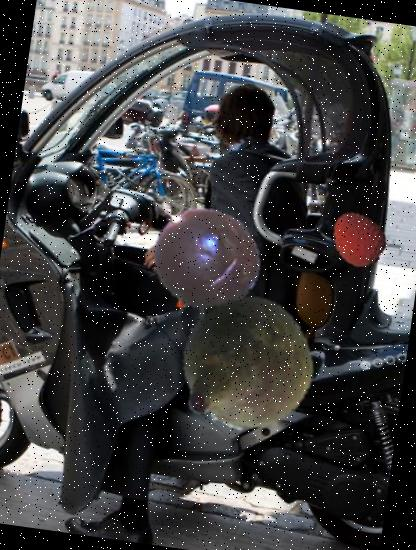Beetroot: (164, 286, 324, 446)
Lychee: (324, 206, 392, 272)
Passion: (144, 200, 269, 324)
